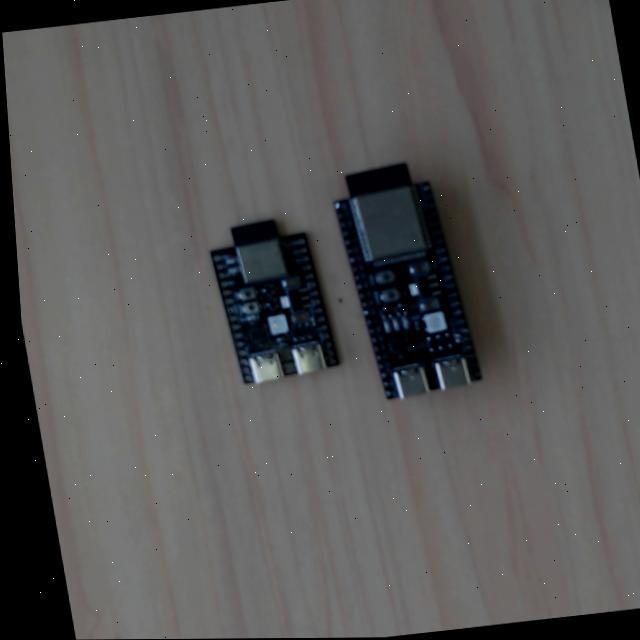ESP32C3-DevKit: (204, 210, 338, 389)
ESP32S3-Devkit: (328, 157, 481, 404)
